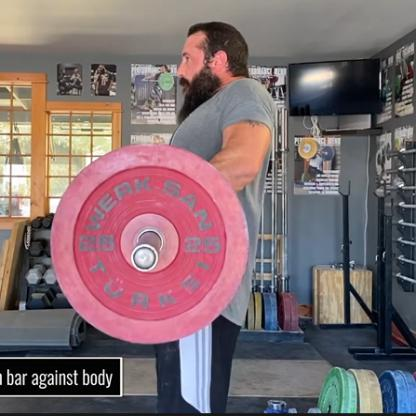Barbell: (44, 138, 254, 354)
